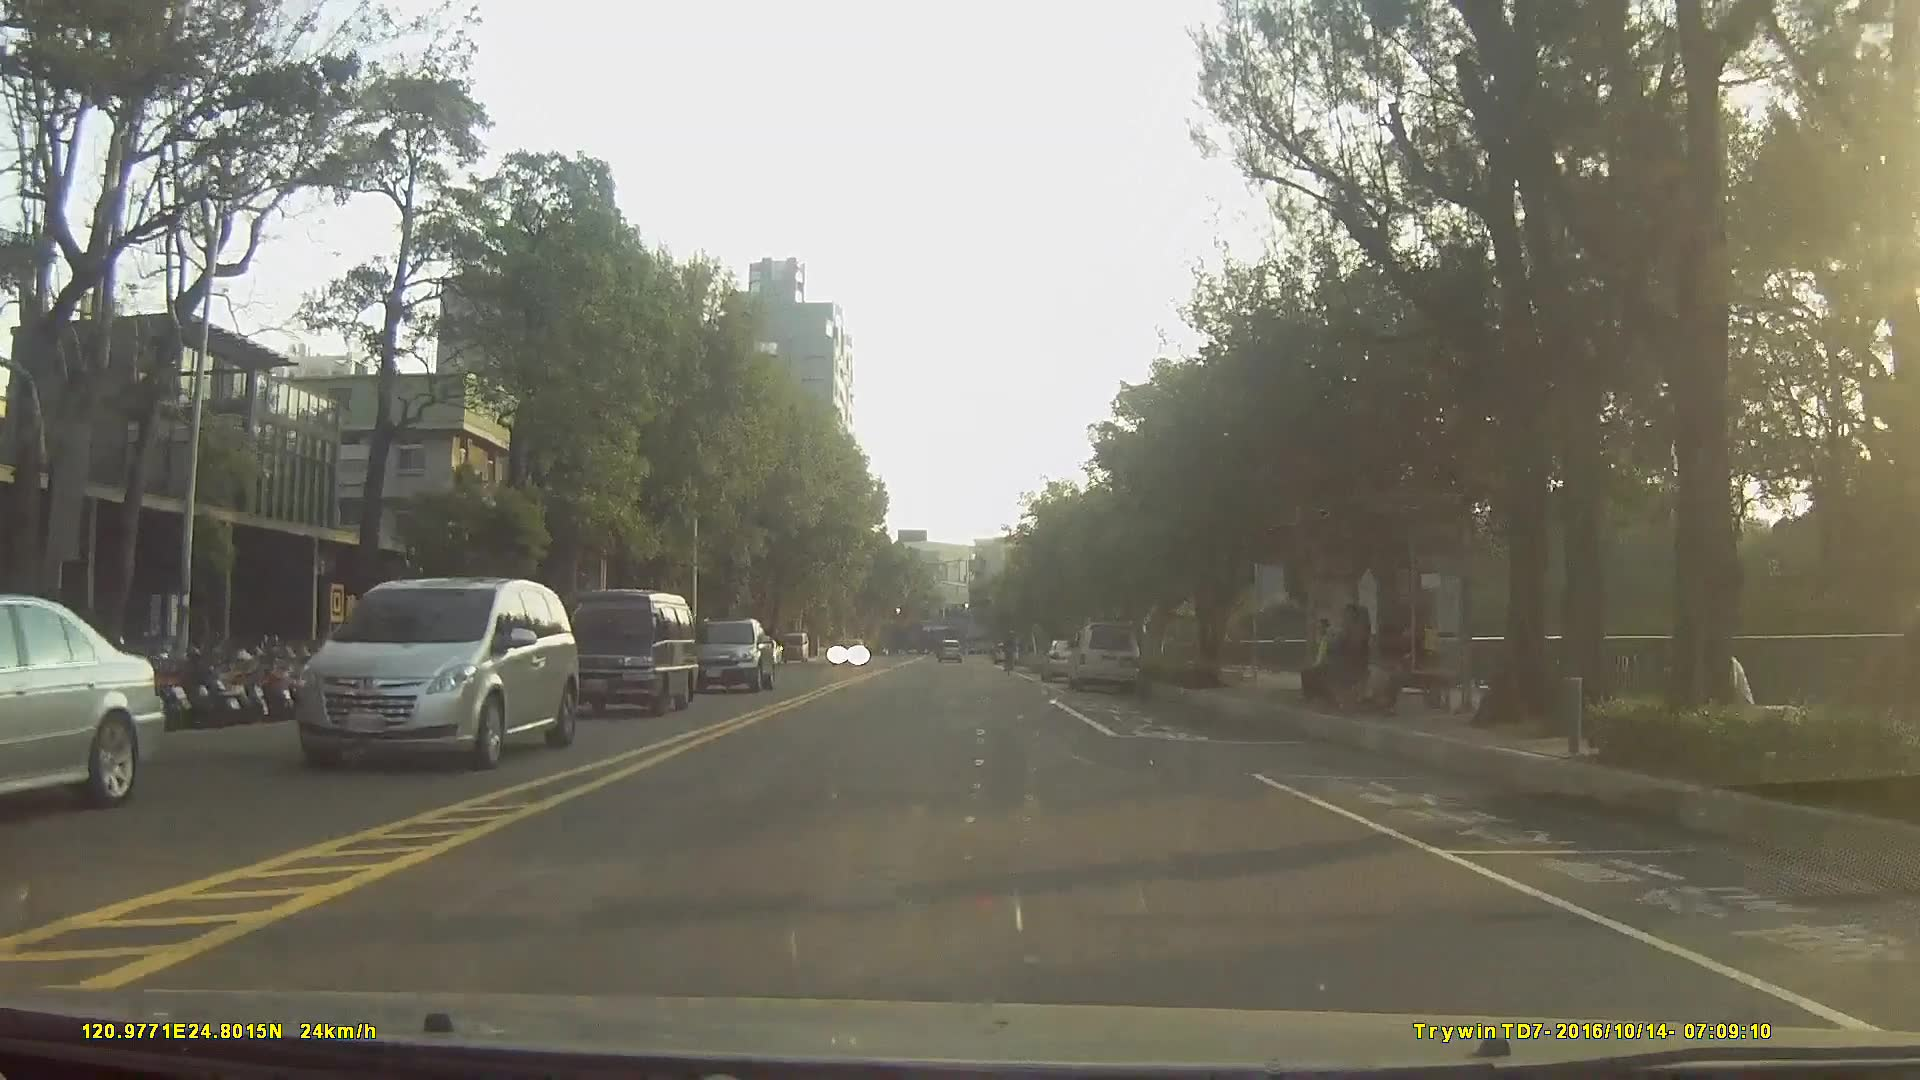pedestrian: (1328, 599, 1369, 723), (1299, 614, 1341, 708), (1367, 610, 1402, 714)
rider: (1000, 631, 1020, 680)
vehicle: (292, 578, 579, 771), (0, 593, 165, 803), (552, 588, 701, 718), (685, 616, 778, 690), (1065, 621, 1141, 693), (1040, 637, 1091, 682), (827, 635, 866, 667), (776, 631, 810, 665), (935, 636, 962, 663)
